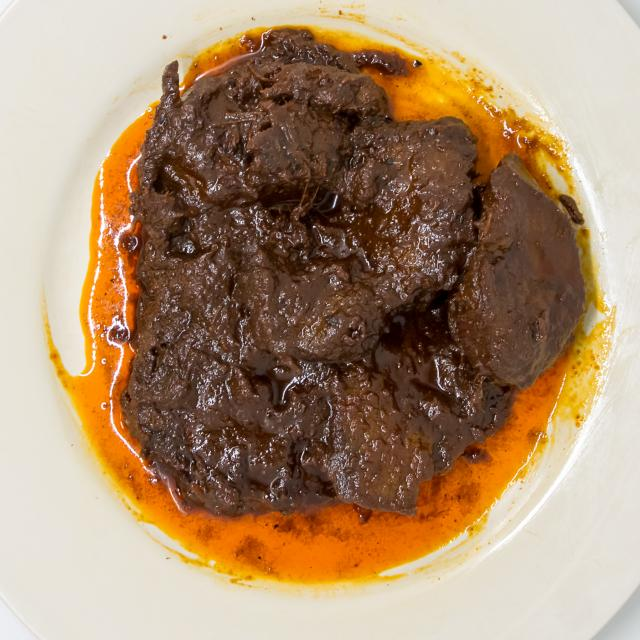Rendang: (107, 16, 599, 534)
